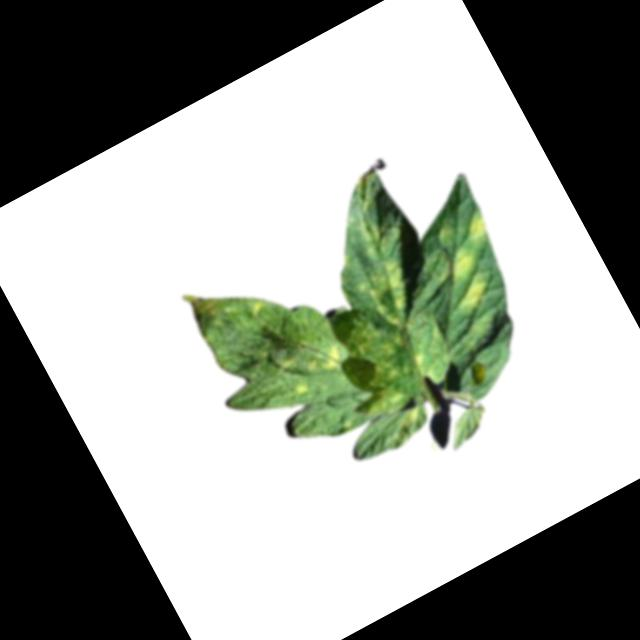Leaf_Mold: (319, 300, 430, 424), (347, 252, 425, 337), (426, 241, 495, 320), (343, 203, 404, 266), (177, 277, 235, 338), (301, 341, 345, 382), (462, 206, 495, 243), (242, 292, 267, 320), (288, 374, 313, 399)
